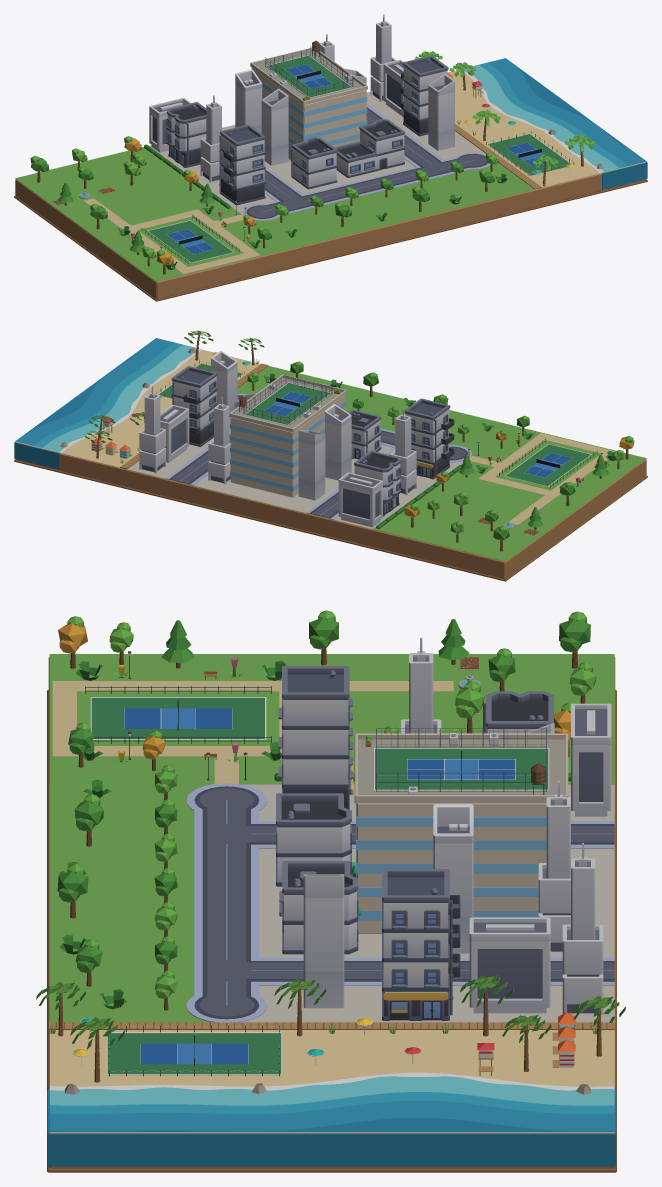
File: map.glb
The picture shows the model from 3 angles, top to bottom: view 1: azimuth 30°, elevation 25°; view 2: azimuth 150°, elevation 25°; view 3: azimuth 270°, elevation 25°; orthographic projection. The views are drawn at different scales.
Parts seen in each view (by area): view 1: map, water, sway; view 2: map, water, sway; view 3: map, water, sway.
Part boxes in pixels (x1=…): map: x1=14, y1=14, x2=647, y2=301; water: x1=464, y1=58, x2=646, y2=172; sway: x1=30, y1=51, x2=594, y2=274; map: x1=14, y1=348, x2=647, y2=581; water: x1=15, y1=338, x2=202, y2=452; sway: x1=85, y1=330, x2=634, y2=551; map: x1=47, y1=637, x2=616, y2=1172; water: x1=49, y1=1072, x2=614, y2=1131; sway: x1=36, y1=610, x2=625, y2=1082.
Bounding box in the file's own units: 14.04 × 2.79 × 7.29.
